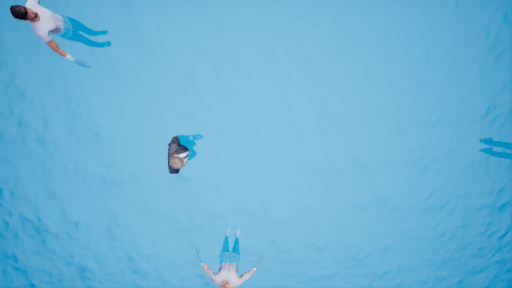person: (1, 1, 135, 64), (191, 225, 273, 287), (167, 123, 209, 176)
